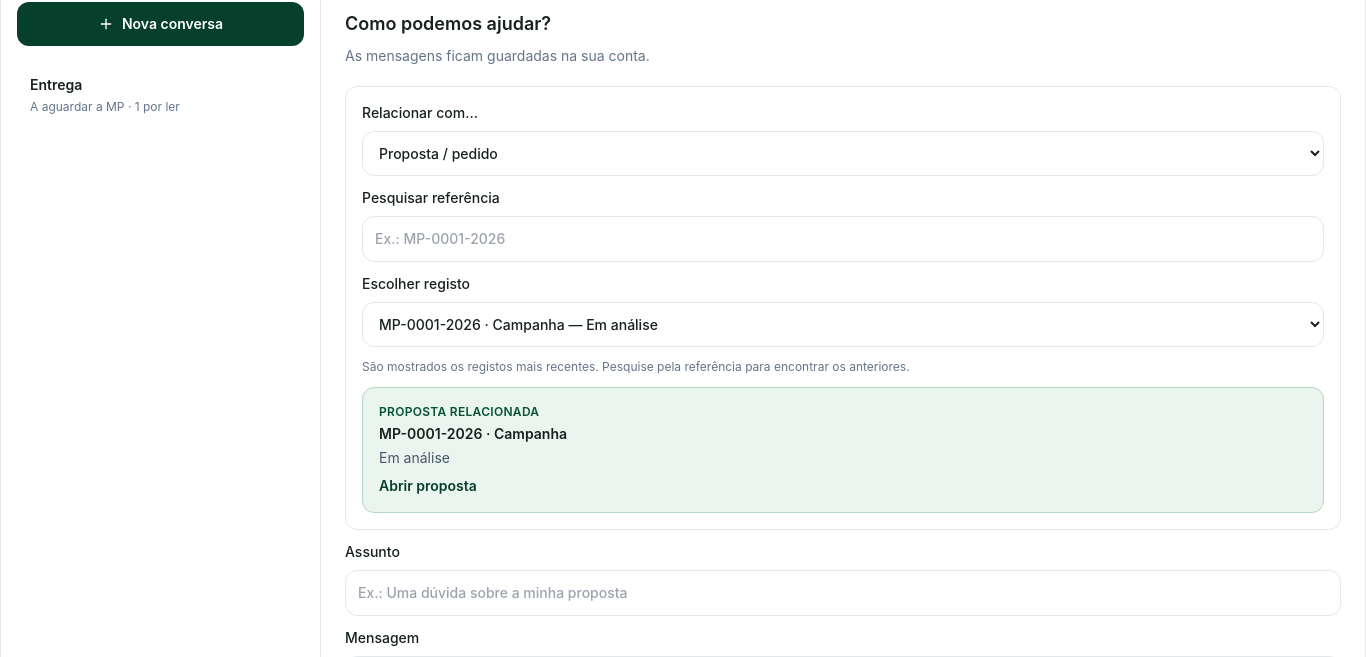
SupportDesk › creates a contextual client conversation and keeps the first message
Expected: the text "MP-0001-2026 · Campanha" is shown, [379, 425, 567, 442]
Type "Entrega" into the field labelled "Assunto" at {"x": 843, "y": 593}, box [345, 570, 1341, 616]
(page scrolled)
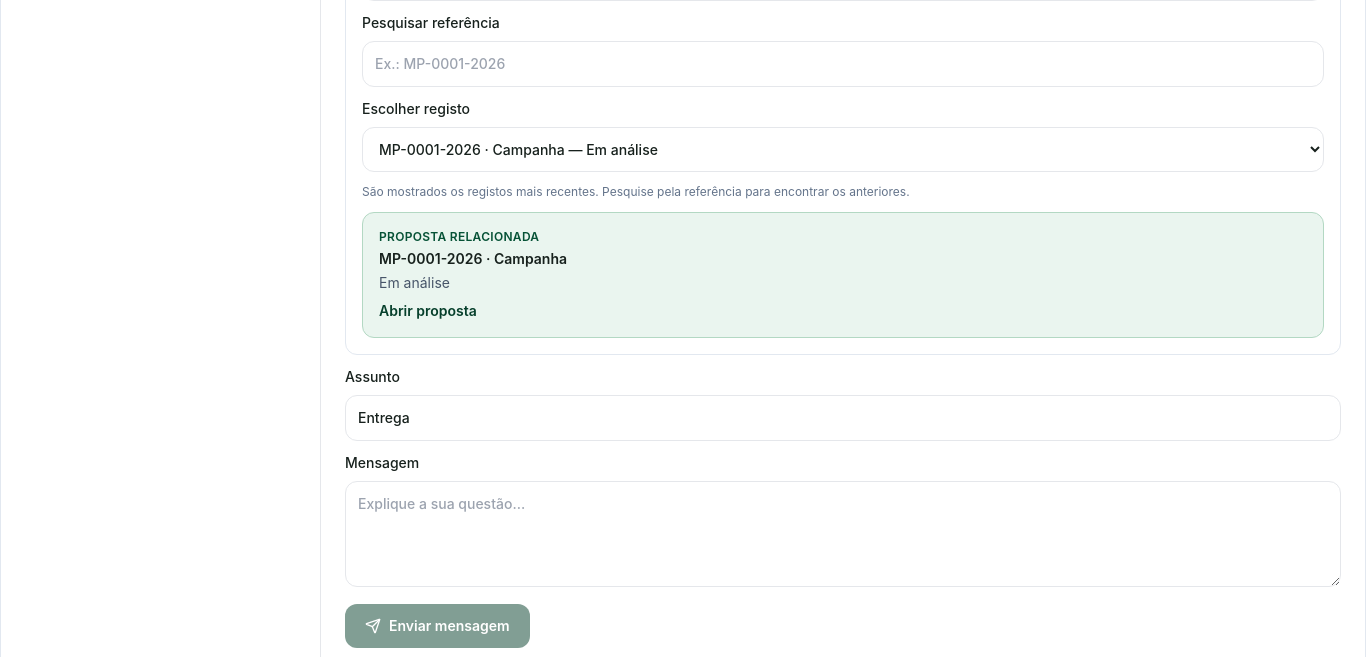
Type "Quando estará pronto?" into the text box labelled "Mensagem" at {"x": 843, "y": 534}, box [345, 481, 1341, 587]
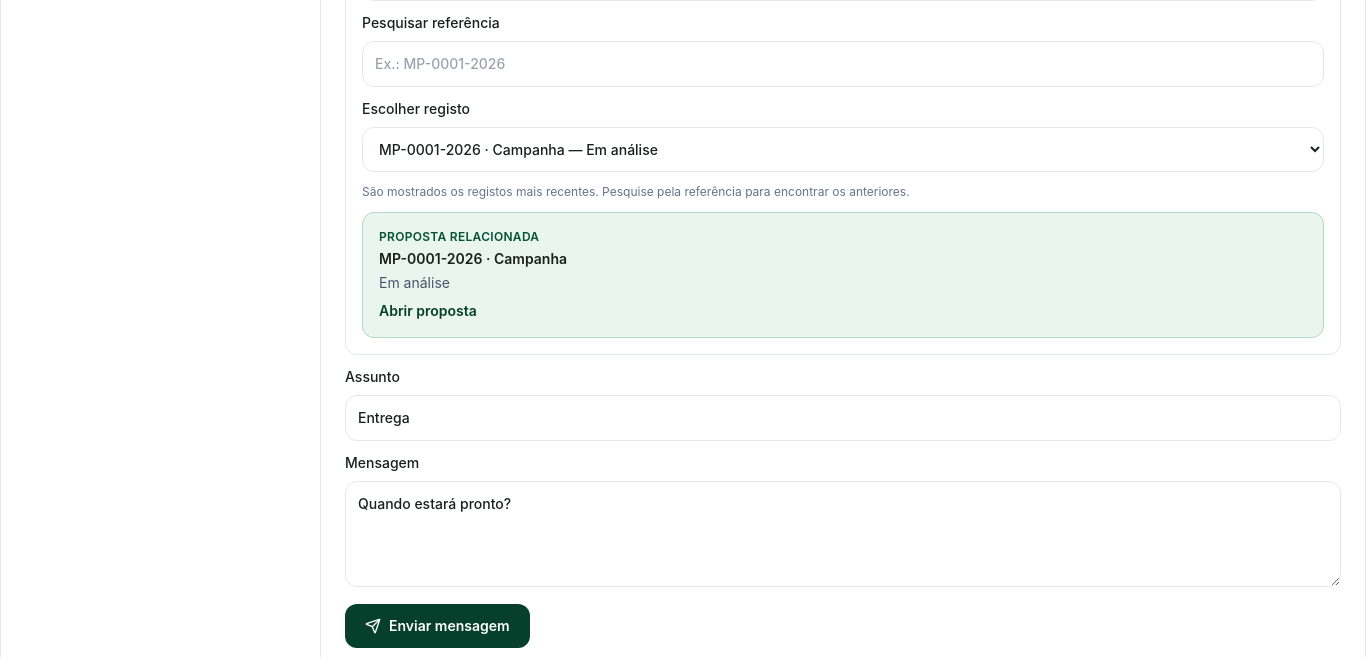
Click the button "Enviar mensagem" at {"x": 437, "y": 626}, box [345, 604, 530, 648]
(page scrolled)
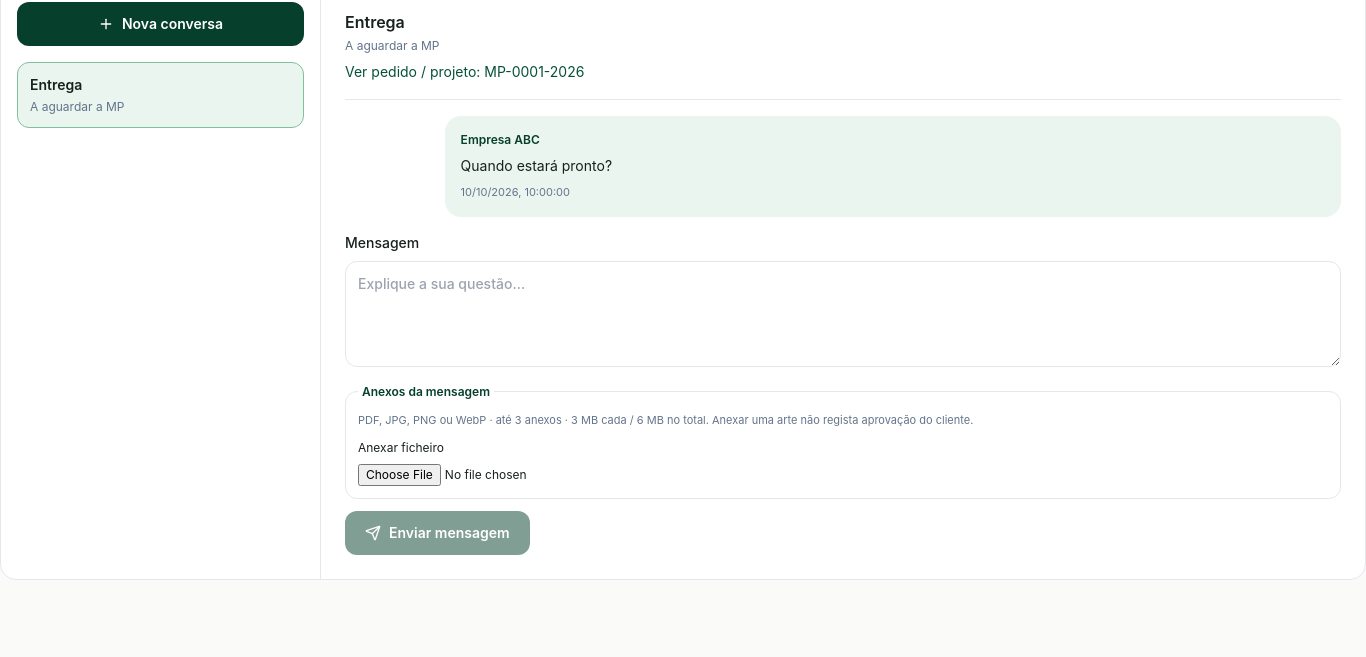
Now the text "Quando estará pronto?" is shown, box [461, 157, 612, 174]
